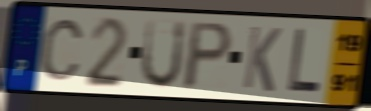2: (85, 14, 128, 89)
C: (38, 17, 86, 83)
K: (240, 23, 284, 95)
L: (285, 26, 323, 96)
P: (179, 20, 236, 93)
U: (138, 17, 189, 92)
